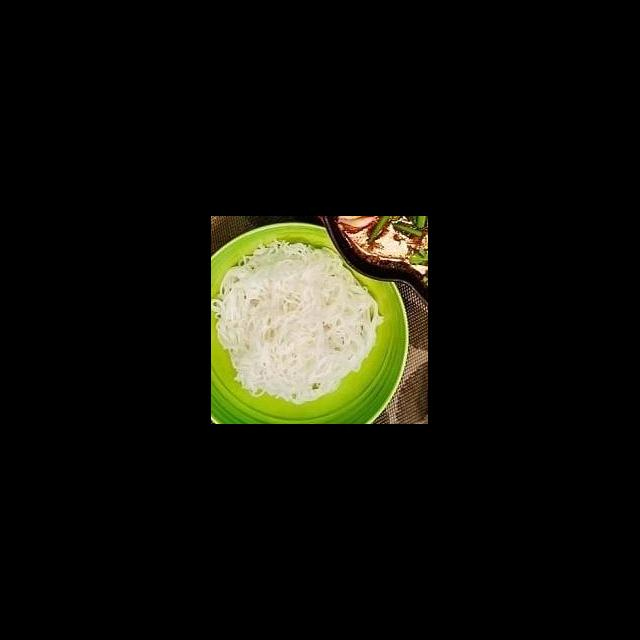bun: (212, 235, 388, 406)
